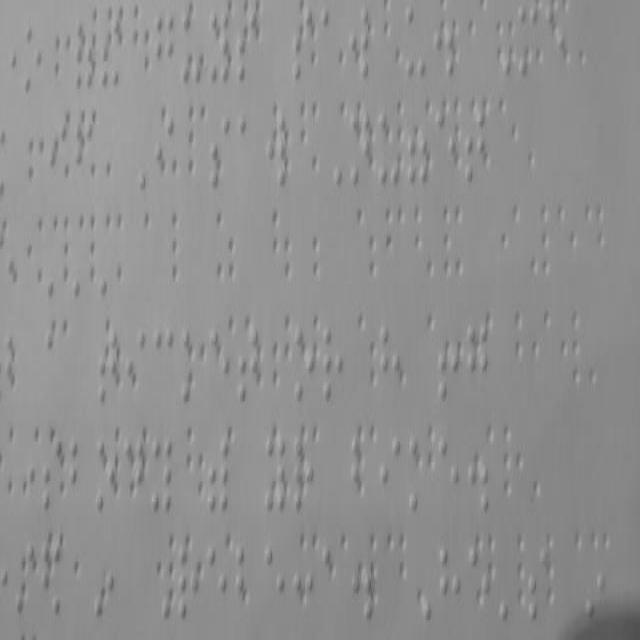braiile: (466, 541, 494, 632), (348, 424, 374, 518), (378, 316, 404, 404), (527, 534, 553, 622), (264, 424, 288, 518), (292, 424, 316, 518), (321, 533, 345, 627), (150, 427, 174, 520), (204, 538, 230, 622), (463, 100, 487, 189), (96, 320, 120, 409), (436, 429, 460, 518), (465, 314, 489, 402), (232, 534, 256, 622), (262, 538, 286, 626), (93, 432, 117, 519), (407, 430, 431, 517), (440, 533, 462, 627), (347, 106, 371, 192), (121, 428, 145, 514), (237, 322, 261, 407), (291, 320, 315, 404), (320, 320, 344, 404), (378, 108, 402, 190), (434, 108, 458, 190), (265, 110, 287, 197), (236, 8, 260, 86), (404, 3, 428, 81), (208, 322, 230, 407), (209, 110, 231, 192), (152, 326, 174, 408), (180, 326, 202, 408), (42, 432, 64, 514), (177, 541, 199, 623), (293, 9, 317, 84), (380, 426, 400, 512), (208, 8, 230, 86), (349, 3, 371, 81), (69, 431, 89, 516), (24, 20, 44, 104), (180, 11, 202, 87), (321, 7, 343, 82), (125, 326, 146, 404), (153, 9, 174, 84), (156, 106, 174, 192)
